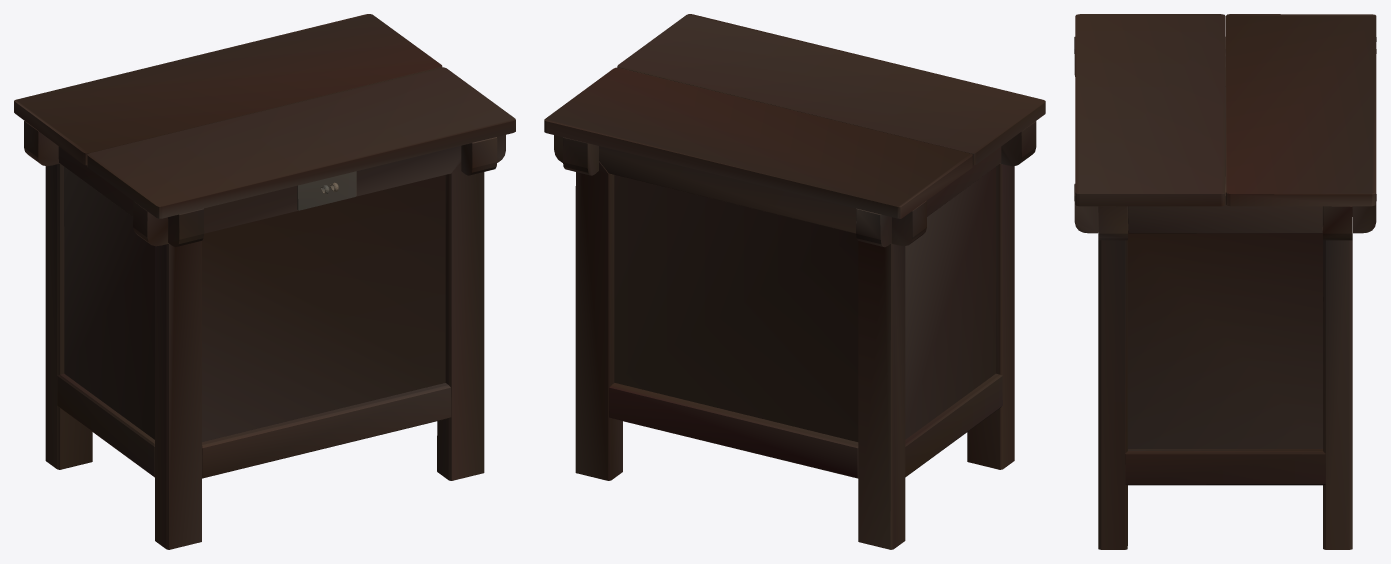
The model's file is unhyun_grain_chest_b45c1e72.glb.
3 renders of one model, left to right at view 1: azimuth 30°, elevation 25°; view 2: azimuth 150°, elevation 25°; view 3: azimuth 270°, elevation 25°, orthographic. The views are drawn at different scales.
Visible parts, largest first — view 1: SM_Unhyun_GrainChest_cover01_M_GrainChest_body_0; view 2: SM_Unhyun_GrainChest_cover01_M_GrainChest_body_0; view 3: SM_Unhyun_GrainChest_cover01_M_GrainChest_body_0.
Boxes of the visible parts, x1,y1,x2,y2 form: SM_Unhyun_GrainChest_cover01_M_GrainChest_body_0: (14, 14, 515, 549); SM_Unhyun_GrainChest_cover01_M_GrainChest_body_0: (544, 14, 1045, 549); SM_Unhyun_GrainChest_cover01_M_GrainChest_body_0: (1074, 14, 1376, 549).
Size of the model in its own units: 1.14 by 1.08 by 0.81.
